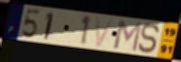1: (79, 14, 92, 47), (44, 11, 54, 40)
5: (20, 7, 43, 40)
M: (112, 19, 144, 53)
S: (137, 22, 161, 55)
V: (94, 16, 117, 48)
